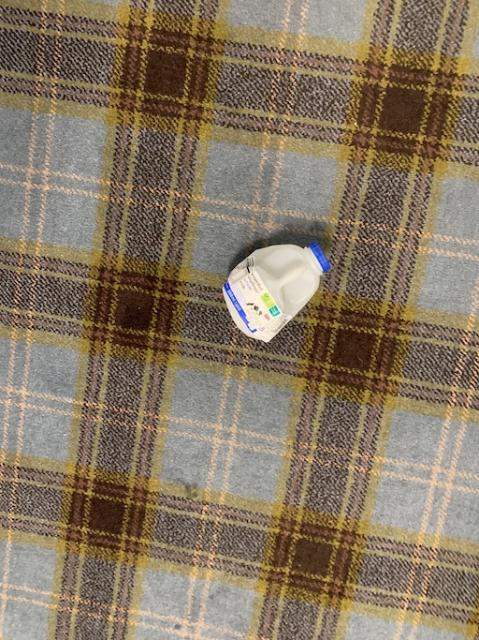plastic: (223, 241, 330, 340)
